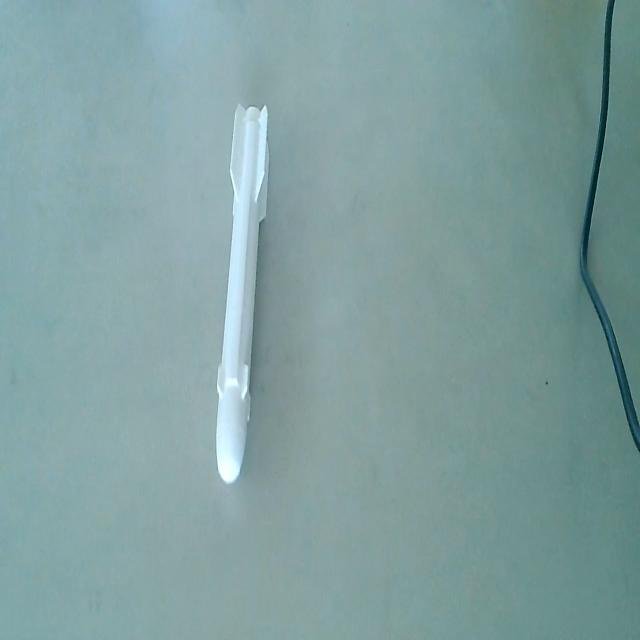Rocket: (213, 97, 273, 488)
